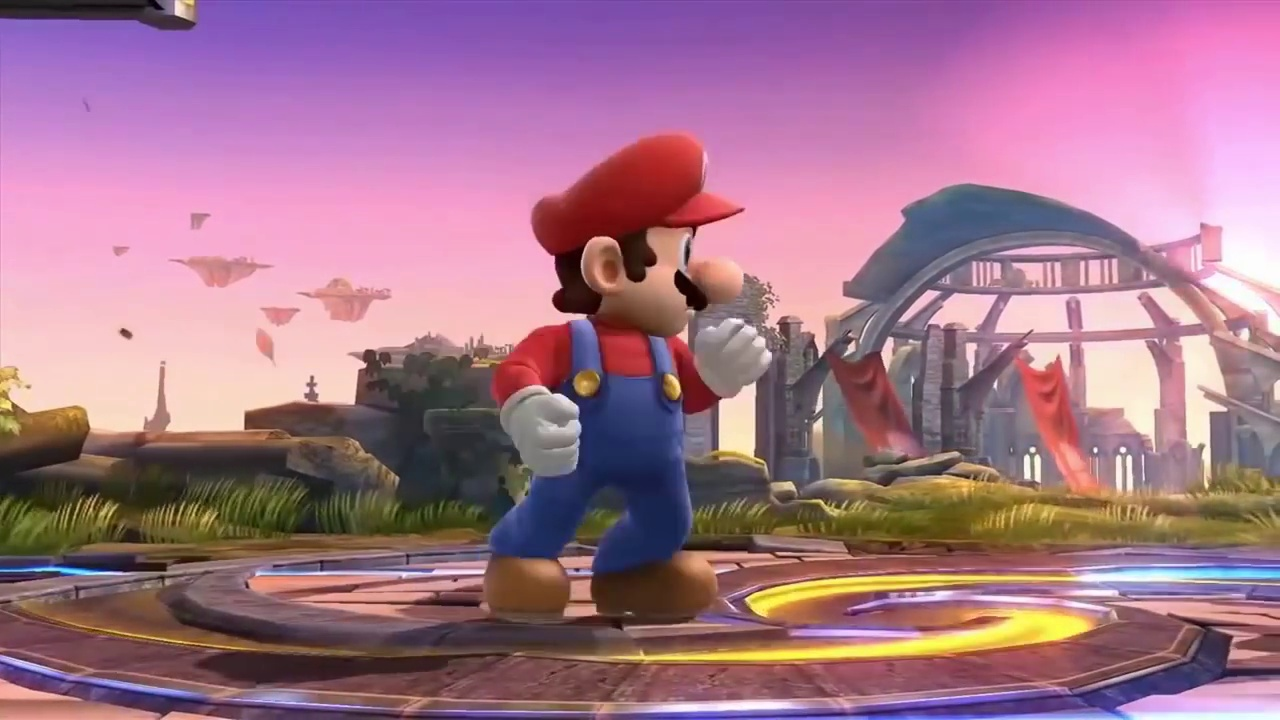Mario: (482, 131, 769, 622)
